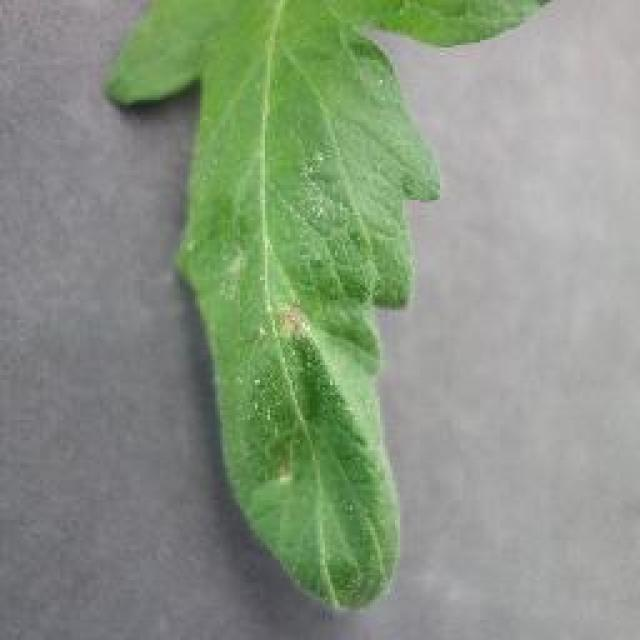Tomato Late Blight: (196, 168, 406, 538)
